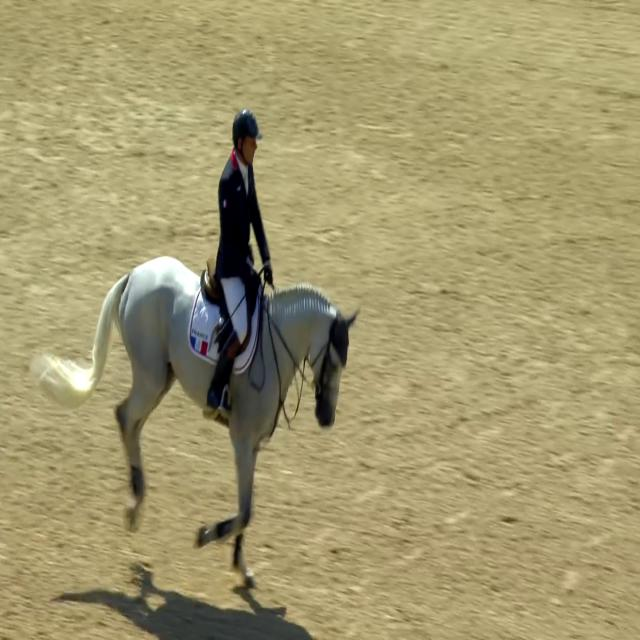Horse Rider: (196, 64, 284, 442)
Horse Running: (34, 214, 361, 598)
